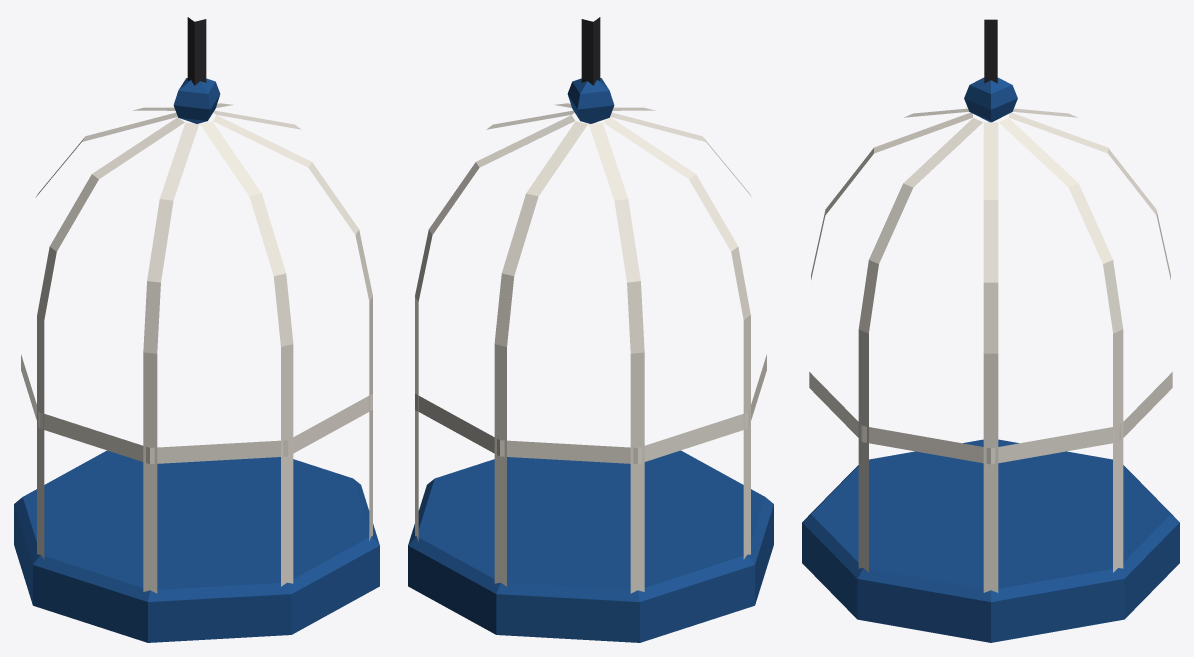
File: lamp_glass_hanging.glb
The picture shows the model from 3 angles, left to right: view 1: azimuth 30°, elevation 25°; view 2: azimuth 150°, elevation 25°; view 3: azimuth 270°, elevation 25°; orthographic projection.
Visible parts, largest first — view 1: lamp_glass_hanging; view 2: lamp_glass_hanging; view 3: lamp_glass_hanging.
Part boxes in pixels (x1,y1,x2,y2): lamp_glass_hanging: (14,17,379,642); lamp_glass_hanging: (408,17,773,642); lamp_glass_hanging: (802,19,1179,642).
Size of the model in its own units: 0.42 by 0.67 by 0.42.
